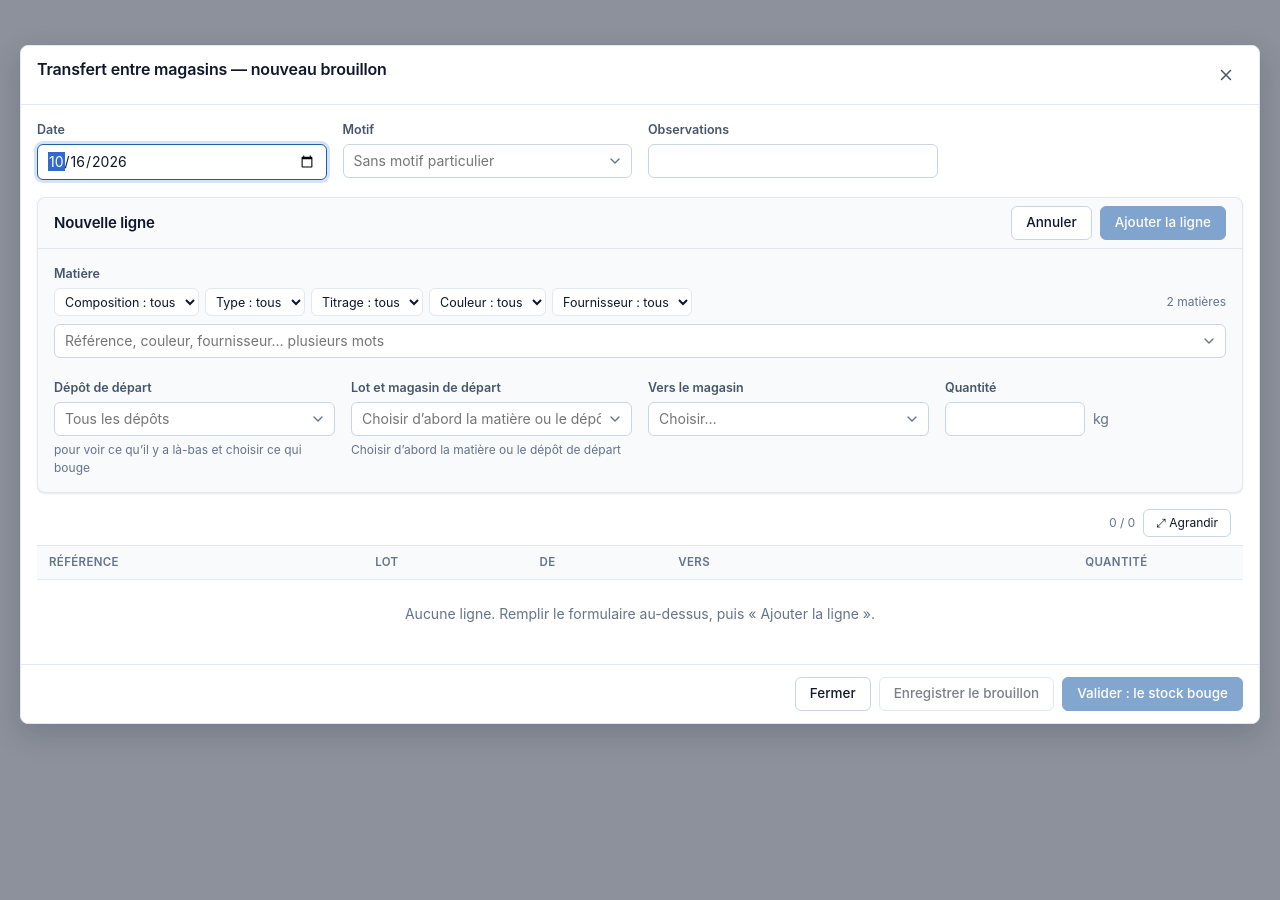
Test: Opérations : la fenêtre › dépôt de départ et matière se combinent : les lots se limitent à cette matière dans ce dépôt
Click the dropdown labelled "Dépôt de départ" at [194, 419], box top-left (54, 402), bottom-right (335, 436)
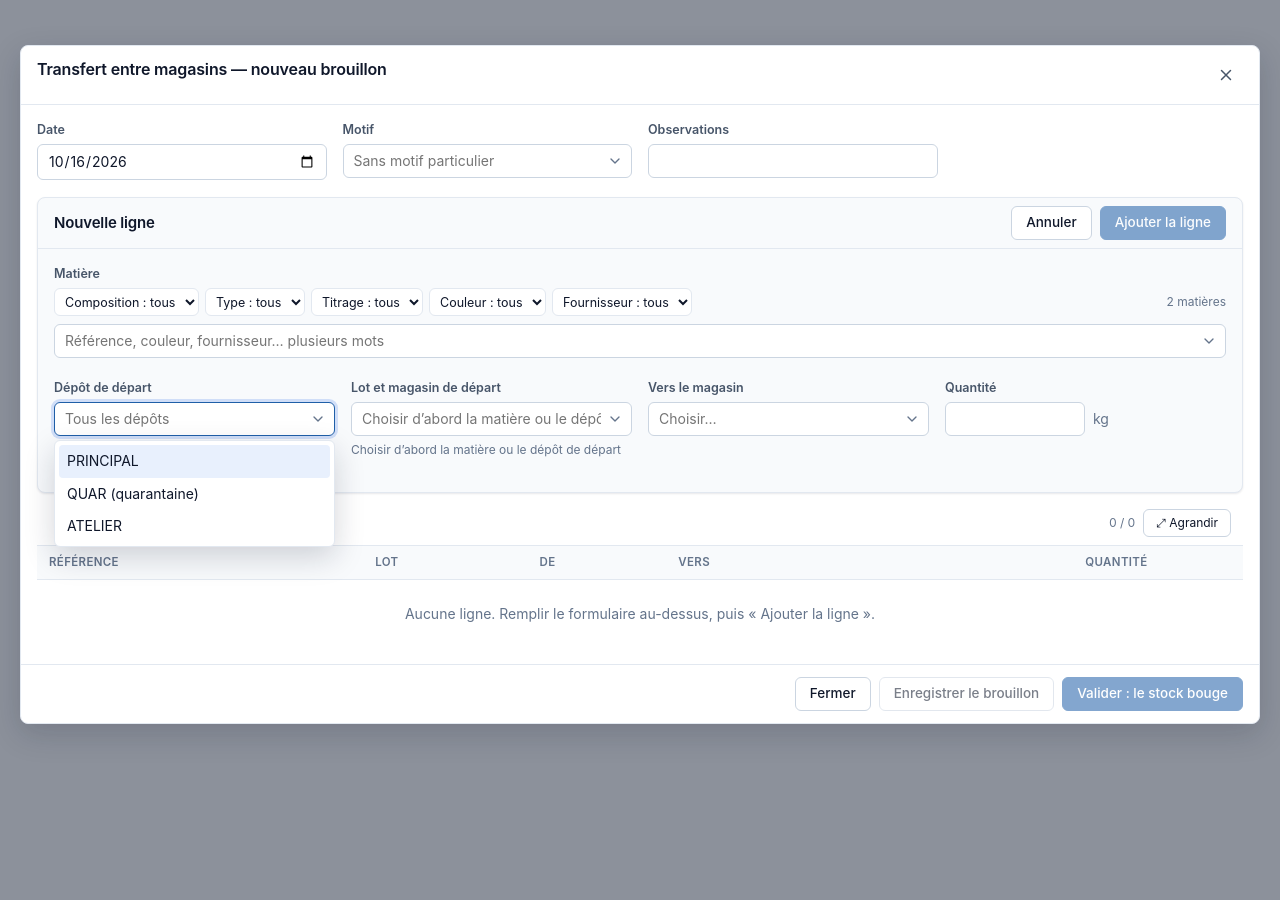
Click the option "PRINCIPAL" at [103, 461], box top-left (59, 445), bottom-right (330, 478)
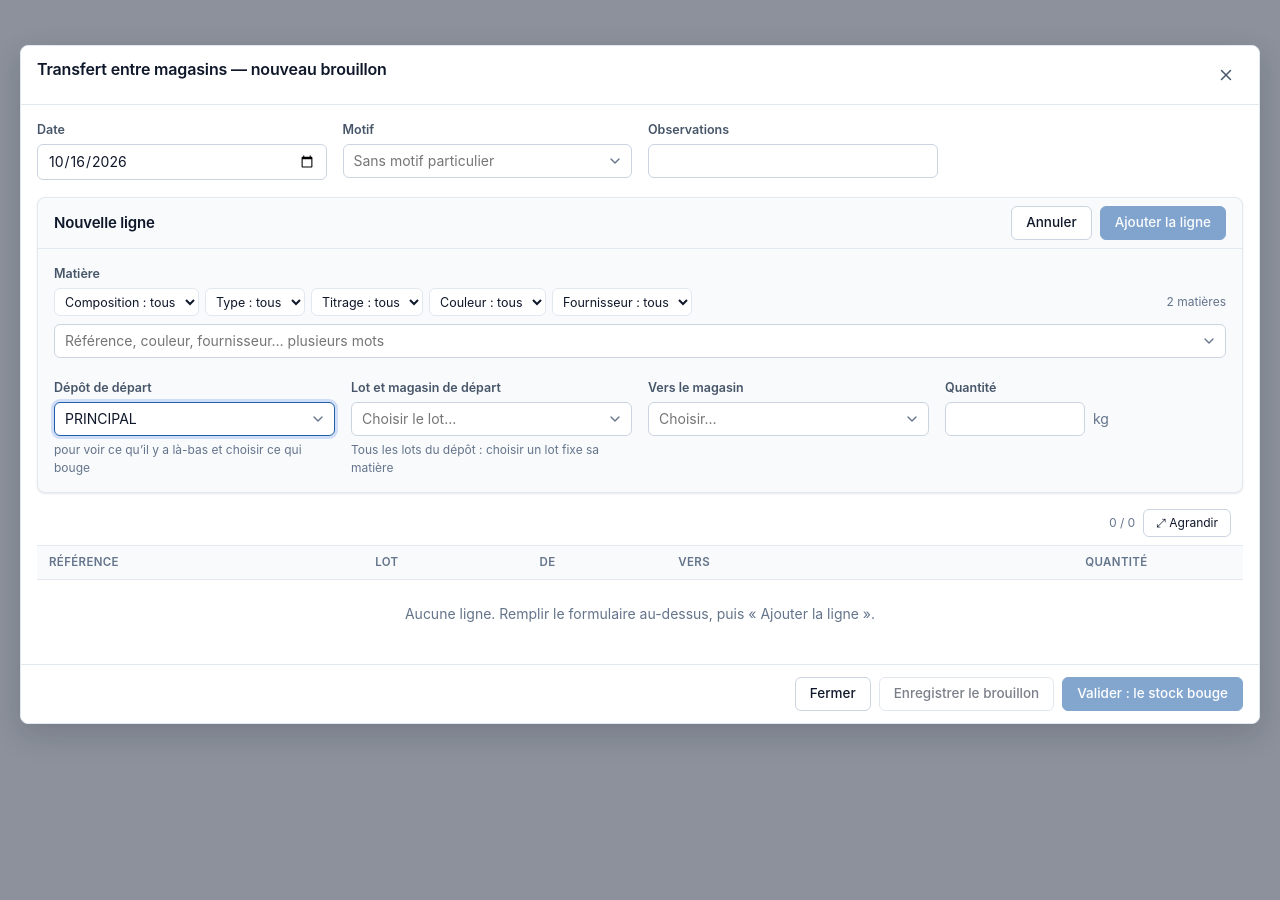
Click the dropdown named "Matière" at [640, 341], box top-left (54, 324), bottom-right (1226, 358)
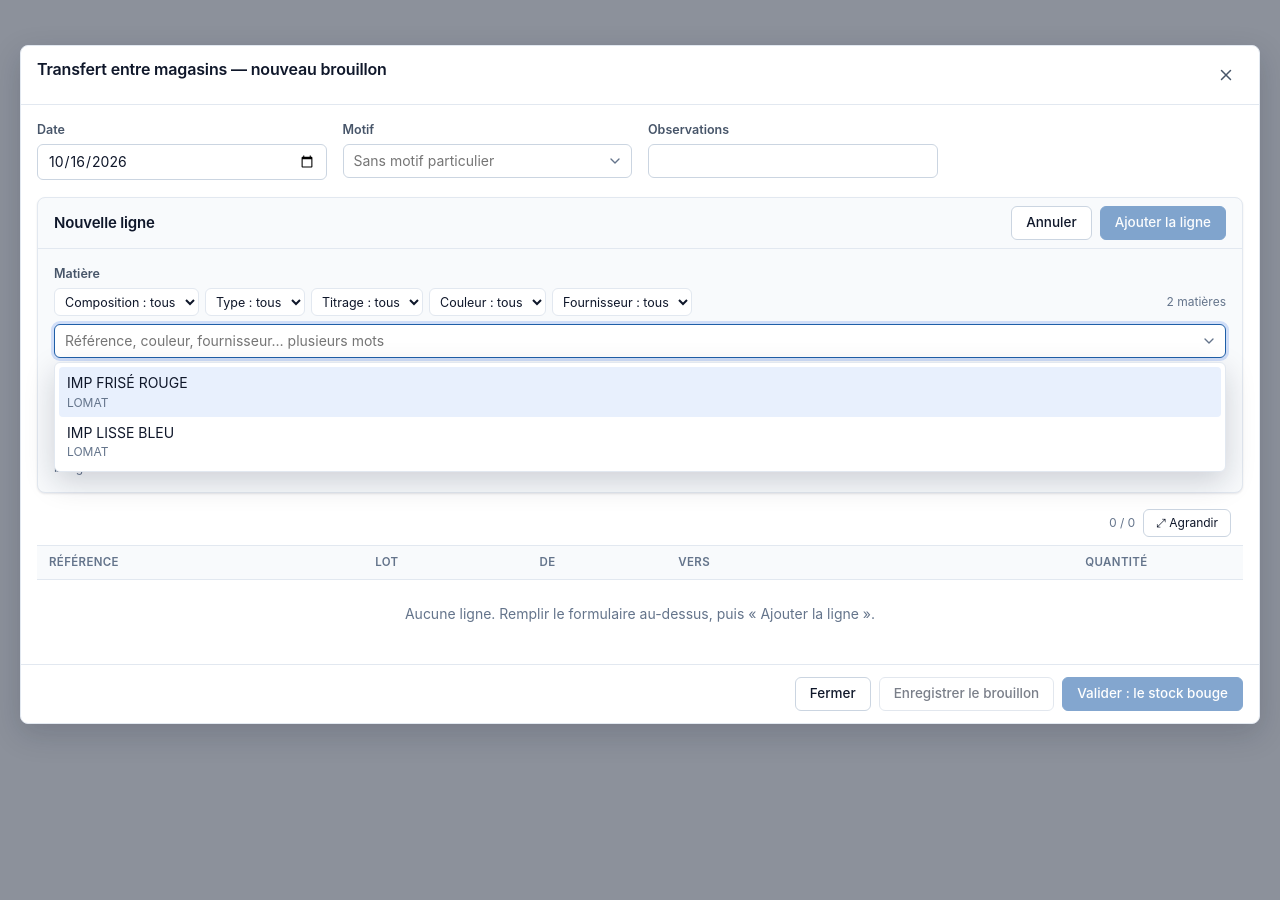
Click the option "IMP LISSE BLEU LOMAT" at [121, 442], box top-left (67, 424), bottom-right (174, 459)
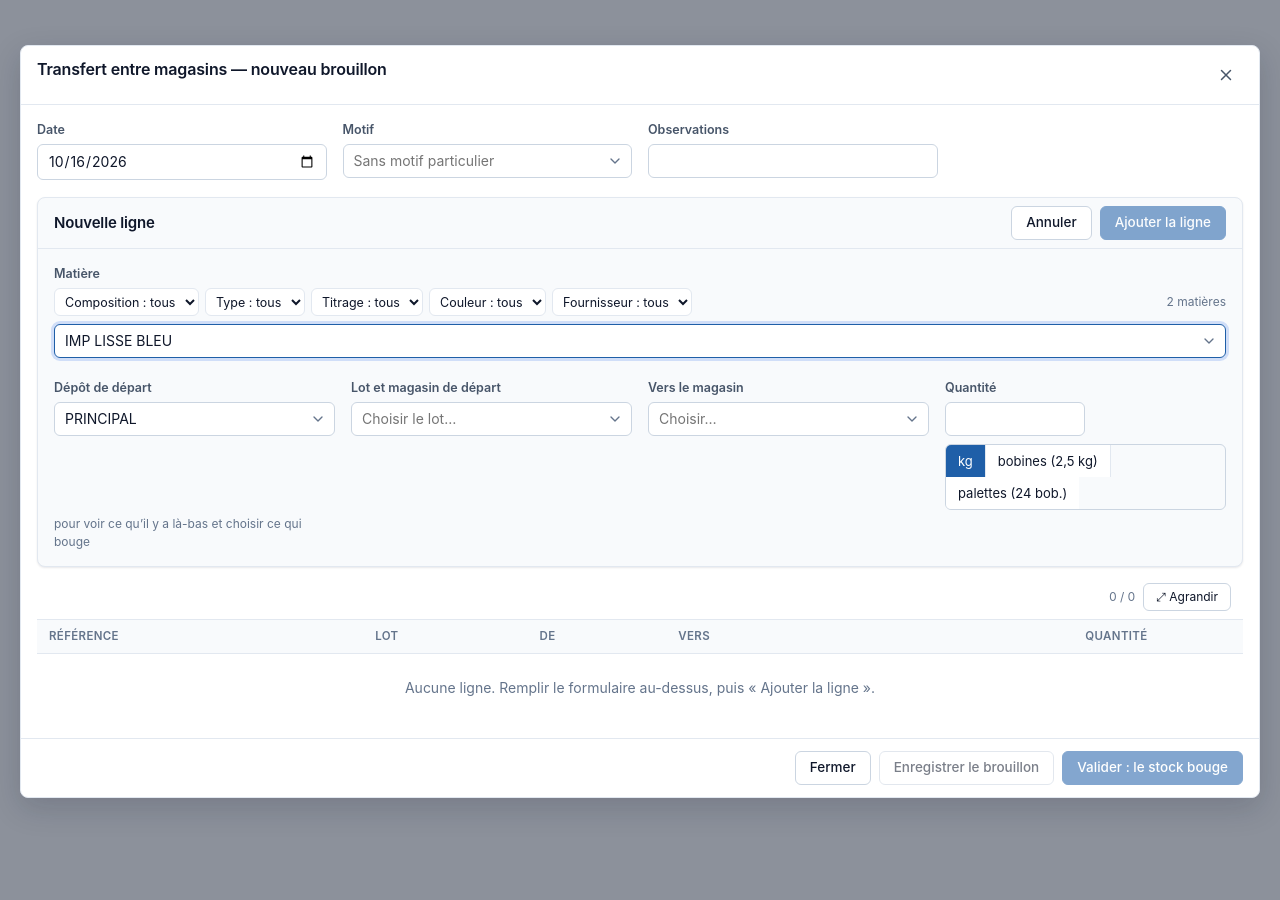
Click the dropdown labelled "Lot et magasin de départ" at [492, 419], box top-left (351, 402), bottom-right (632, 436)
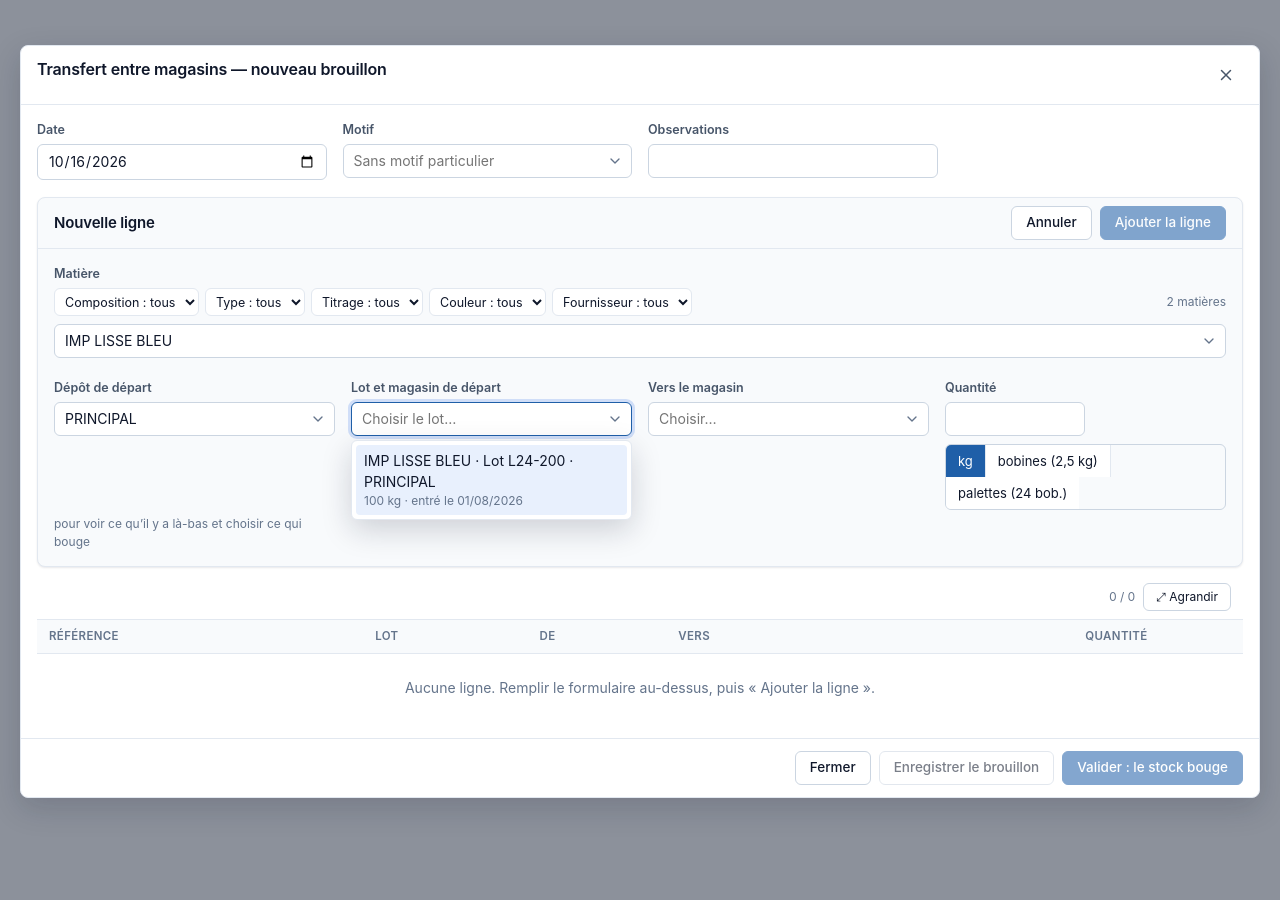
Check: the option "Lot L24-200 · PRINCIPAL" is shown, box top-left (356, 445), bottom-right (627, 515)
